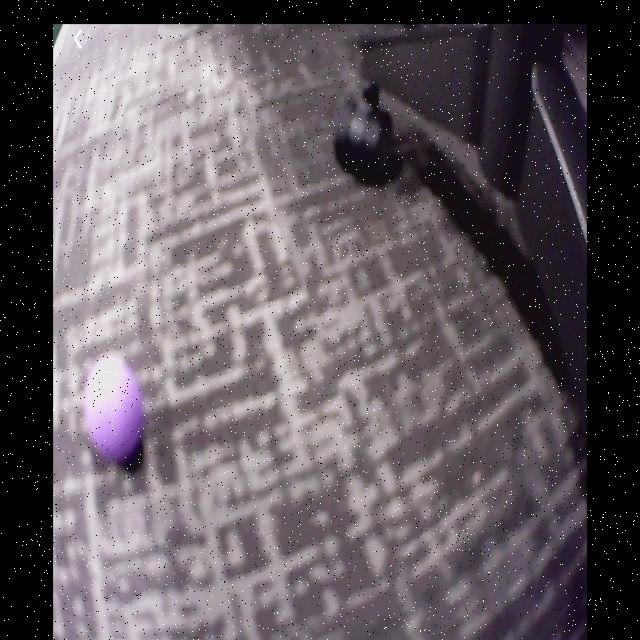ball: (88, 355, 143, 461)
